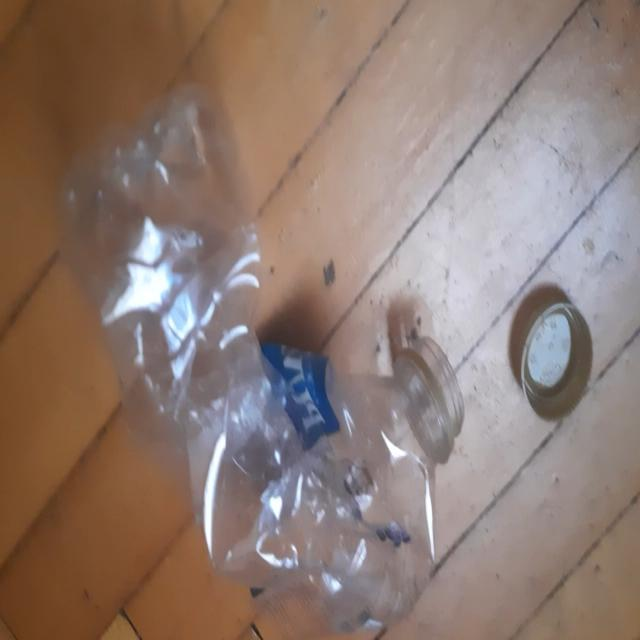Plastic: (57, 81, 443, 634)
